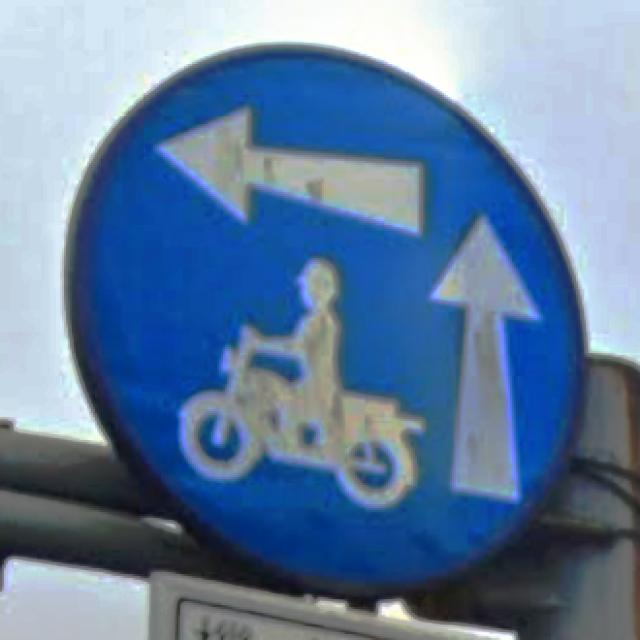twostageturn: (81, 47, 580, 582)
